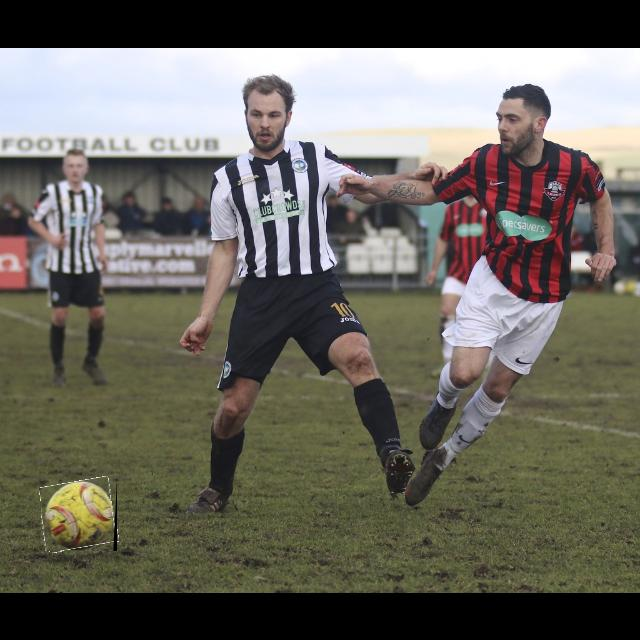Football: (41, 479, 117, 551)
